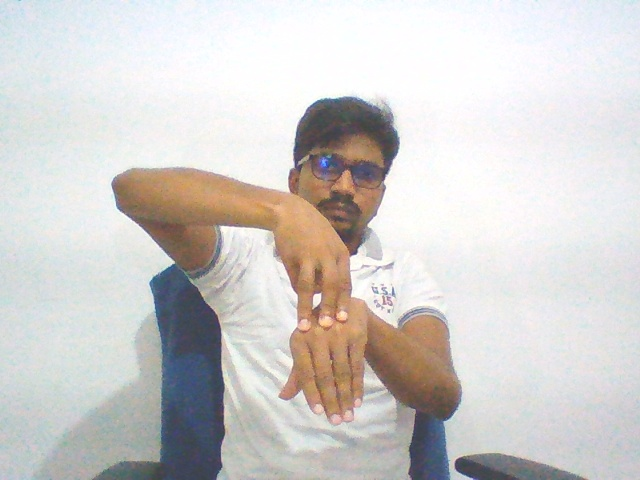papaya: (267, 184, 376, 432)
